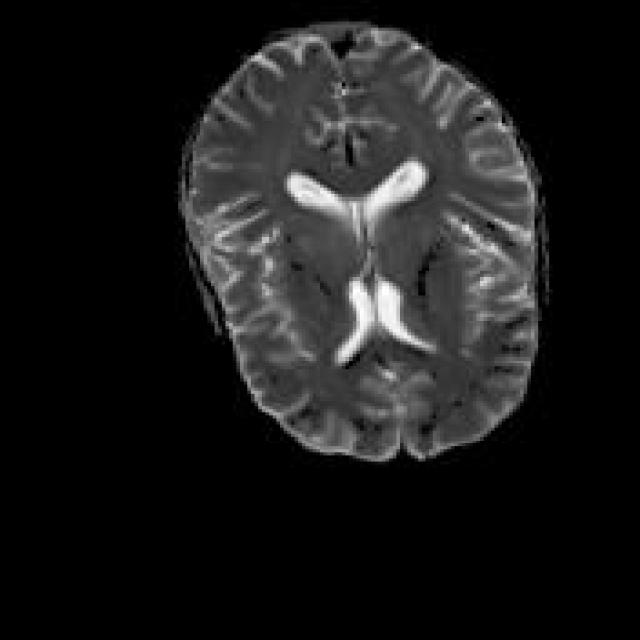parkinson: (175, 19, 549, 462)
